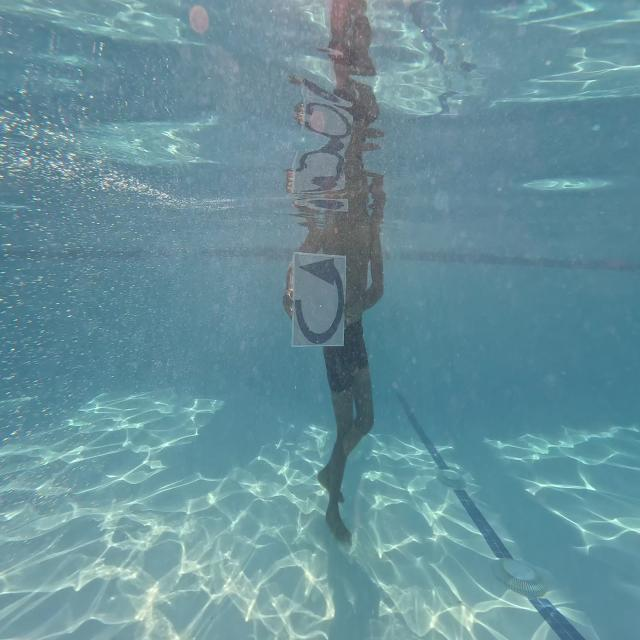blue_side: (292, 250, 345, 348)
